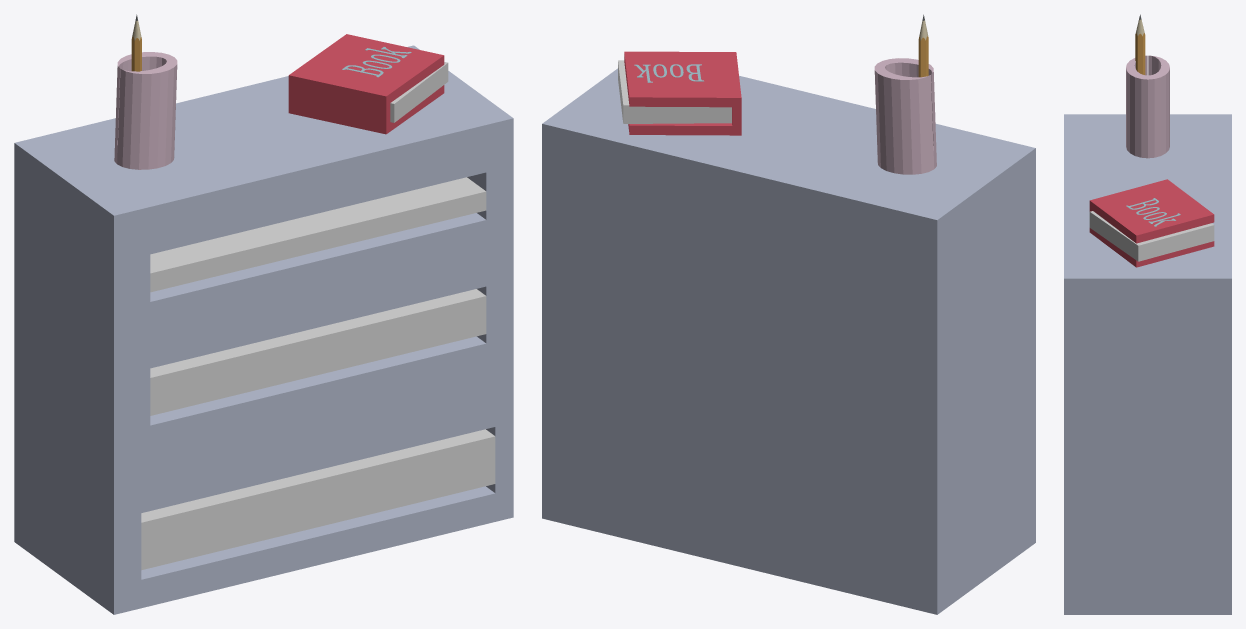
Rendered from Project - 149.glb.
3 views of the same model, side by side, from view 1: azimuth 30°, elevation 25°; view 2: azimuth 150°, elevation 25°; view 3: azimuth 270°, elevation 25° (orthographic). The views are drawn at different scales.
Parts seen in each view (by area): view 1: Mesh_Mesh_head_geo.001_lambert2SG.001; view 2: Mesh_Mesh_head_geo.001_lambert2SG.001; view 3: Mesh_Mesh_head_geo.001_lambert2SG.001.
Part boxes in pixels (x1,y1,x2,y2): Mesh_Mesh_head_geo.001_lambert2SG.001: (14, 14, 513, 614); Mesh_Mesh_head_geo.001_lambert2SG.001: (542, 14, 1035, 614); Mesh_Mesh_head_geo.001_lambert2SG.001: (1064, 14, 1231, 614).
Bounding box in the file's own units: 44 × 58 × 19.
